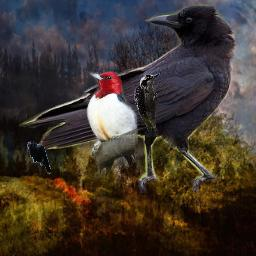Crow: (19, 4, 239, 193), (27, 141, 51, 174)
Woodpecker: (84, 71, 139, 182), (132, 70, 163, 138)
